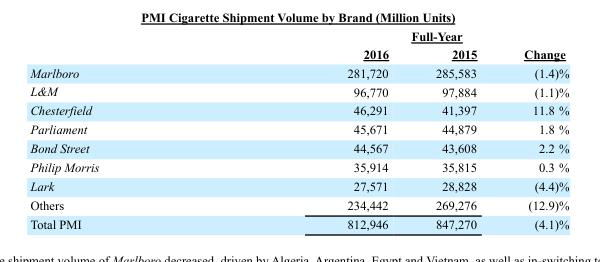table: (29, 28, 568, 230)
table column: (29, 28, 222, 230), (222, 28, 411, 230), (411, 28, 499, 230), (499, 28, 568, 230)
table column header: (29, 28, 568, 62)
table row: (29, 62, 568, 81), (29, 81, 568, 100), (29, 100, 568, 119), (29, 119, 568, 138), (29, 138, 568, 157), (29, 157, 568, 176), (29, 176, 568, 195), (29, 195, 568, 214), (29, 44, 568, 62), (29, 28, 568, 44), (29, 214, 568, 230)
table spanning cell: (222, 28, 568, 44)
